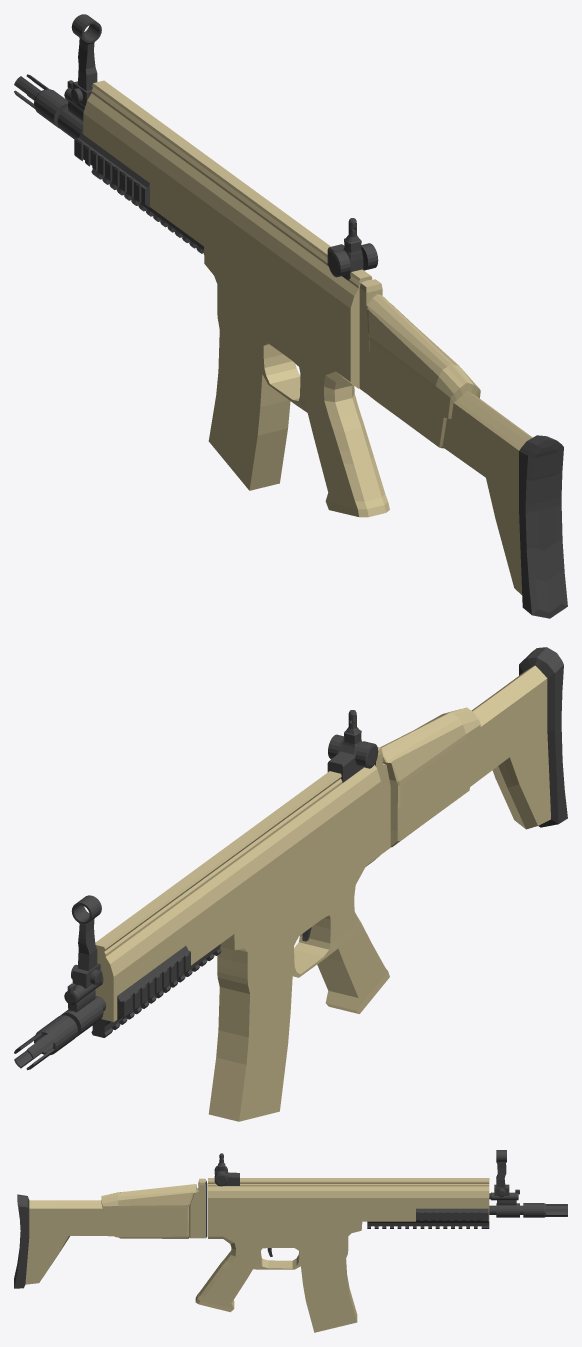
File: Scar AR.fbx
3 views of the same model, one above another, from view 1: azimuth 30°, elevation 25°; view 2: azimuth 150°, elevation 25°; view 3: azimuth 270°, elevation 25° (orthographic). The views are drawn at different scales.
Parts seen in each view (by area): view 1: Gun Scar; view 2: Gun Scar; view 3: Gun Scar.
Part boxes in pixels (<box>): Gun Scar: <box>14,14,567,618</box>; Gun Scar: <box>14,647,567,1121</box>; Gun Scar: <box>14,1150,567,1332</box>.
Bounding box in the file's own units: 31.81 × 206 × 580.
